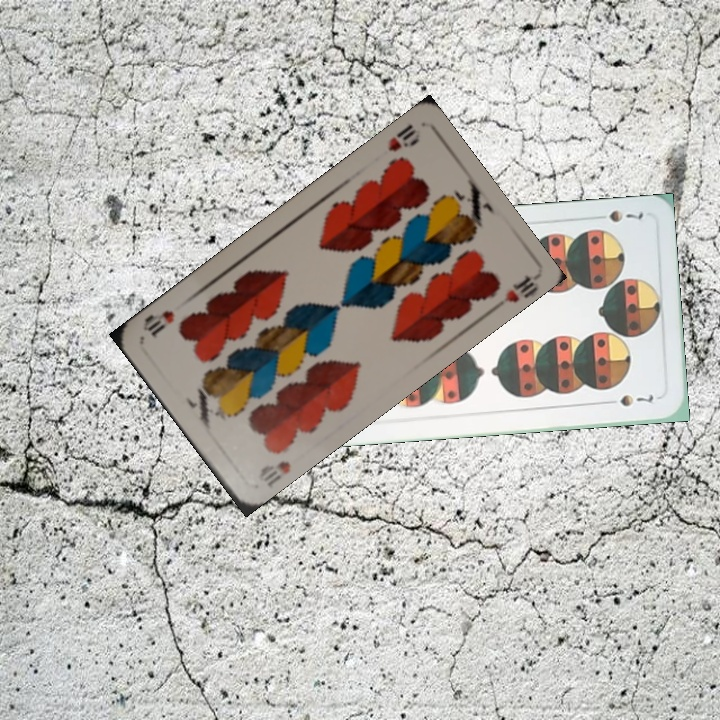H10: (383, 120, 424, 155), (254, 456, 294, 489)
S7: (605, 206, 646, 225)
